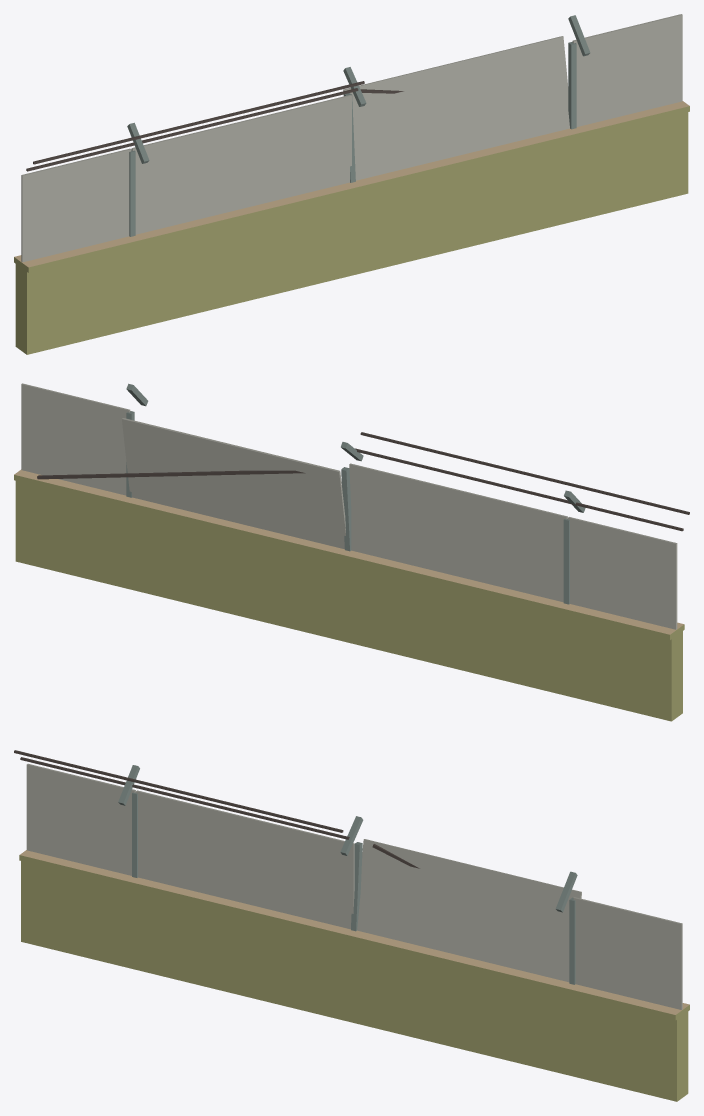
The model's file is SM_VallaBetera_MuroBajo_e1_SanaGolpeada_LOD0.fbx.
The picture shows the model from 3 angles, top to bottom: view 1: azimuth 30°, elevation 25°; view 2: azimuth 150°, elevation 25°; view 3: azimuth 330°, elevation 25°; orthographic projection.
Parts seen in each view (by area): view 1: SM_valla_estados_v6_LOD0; view 2: SM_valla_estados_v6_LOD0; view 3: SM_valla_estados_v6_LOD0.
Part boxes in pixels (box(x1,y1,x2,y2)): SM_valla_estados_v6_LOD0: box(14, 14, 689, 354); SM_valla_estados_v6_LOD0: box(14, 383, 689, 721); SM_valla_estados_v6_LOD0: box(14, 750, 689, 1101).
Size of the model in its own units: 10 by 2.9 by 0.6502.
